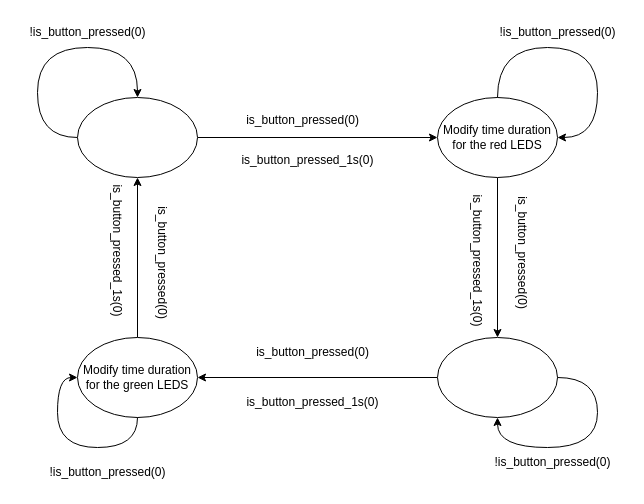
Some shapes in this 644 by 504 pixel diagram are drawn without their labels. The shapes that lost their labels are listed below. From the top down, each one's centre as x and y in pixels, then its label:
(137,137): Normal mode
(497,377): Modify time duration for the amber LEDS
